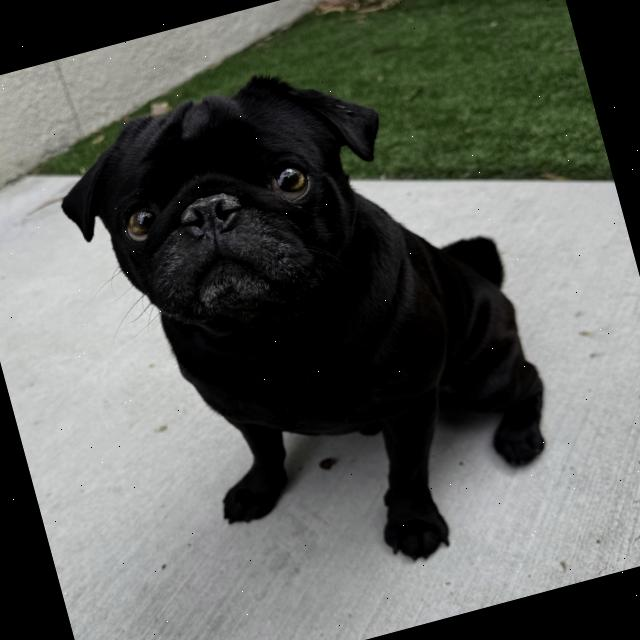pug_dog: (28, 31, 436, 396)
